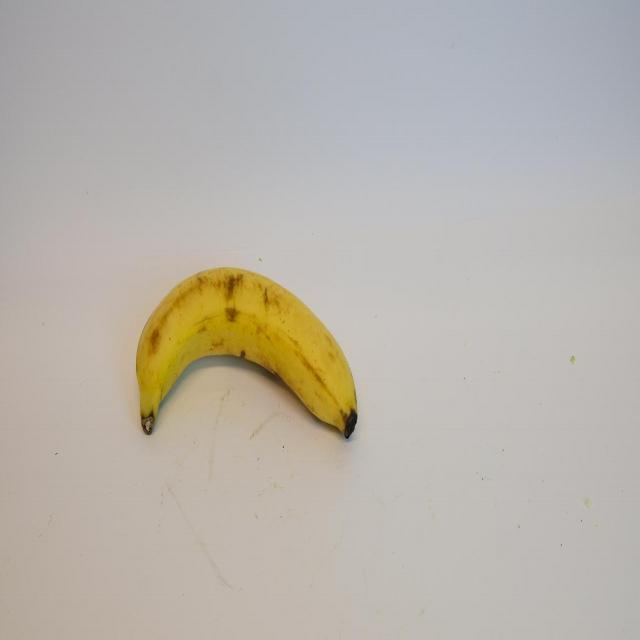banana: (132, 256, 360, 460)
